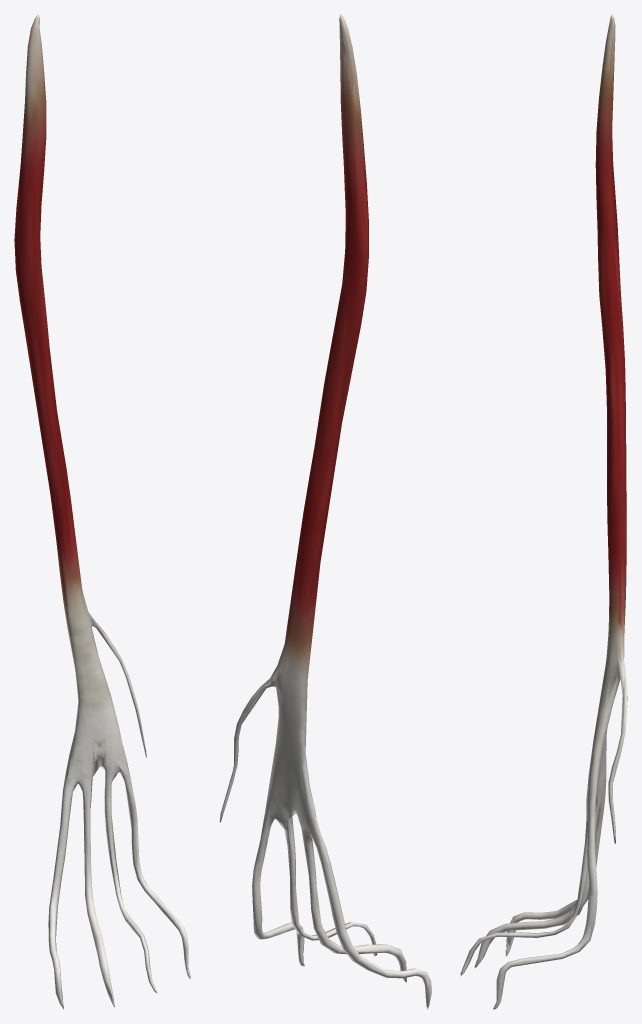
File: R Extensor digitorum communis.fbx
3 renders of one model, left to right at view 1: azimuth 30°, elevation 25°; view 2: azimuth 150°, elevation 25°; view 3: azimuth 270°, elevation 25°, orthographic. The views are drawn at different scales.
Parts seen in each view (by area): view 1: R Extensor digitorum communis, R Extensor digitorum communis low, R Extensor digitorum communis high; view 2: R Extensor digitorum communis, R Extensor digitorum communis low, R Extensor digitorum communis high; view 3: R Extensor digitorum communis, R Extensor digitorum communis low, R Extensor digitorum communis high.
Part boxes in pixels (x1=…): R Extensor digitorum communis: x1=14, y1=14, x2=190, y2=1009; R Extensor digitorum communis low: x1=15, y1=14, x2=189, y2=1006; R Extensor digitorum communis high: x1=18, y1=21, x2=189, y2=1001; R Extensor digitorum communis: x1=219, y1=14, x2=431, y2=1009; R Extensor digitorum communis low: x1=221, y1=15, x2=431, y2=1004; R Extensor digitorum communis high: x1=223, y1=22, x2=425, y2=980; R Extensor digitorum communis: x1=460, y1=14, x2=627, y2=1009; R Extensor digitorum communis low: x1=470, y1=19, x2=625, y2=1001; R Extensor digitorum communis high: x1=463, y1=19, x2=625, y2=1003.
Size of the model in its own units: 2.05 by 13.02 by 2.06.
